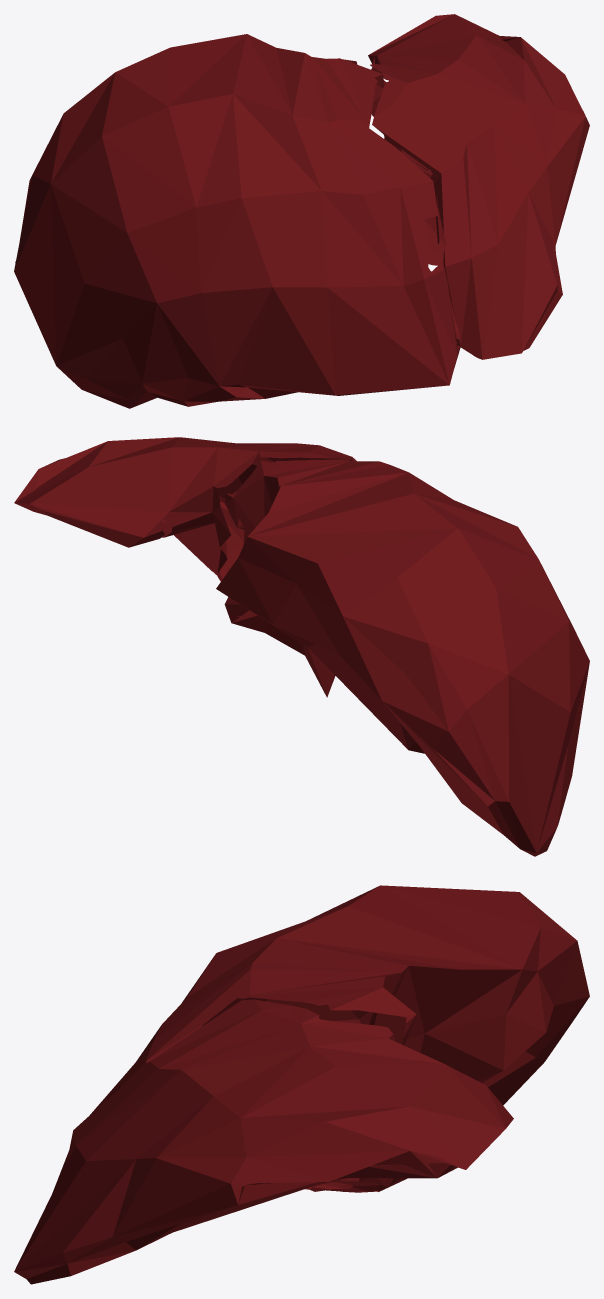
File: liver.gltf
3 renders of one model, top to bottom at view 1: azimuth 30°, elevation 25°; view 2: azimuth 150°, elevation 25°; view 3: azimuth 270°, elevation 25°, orthographic. The views are drawn at different scales.
Visible parts, largest first — view 1: node_id32; view 2: node_id32; view 3: node_id32.
Boxes of the visible parts, box(x1,y1,x2,y2) form: node_id32: box(14, 14, 589, 408); node_id32: box(14, 437, 589, 856); node_id32: box(14, 885, 589, 1284).
Bounding box in the file's own units: 1.96 × 1.09 × 1.59.
